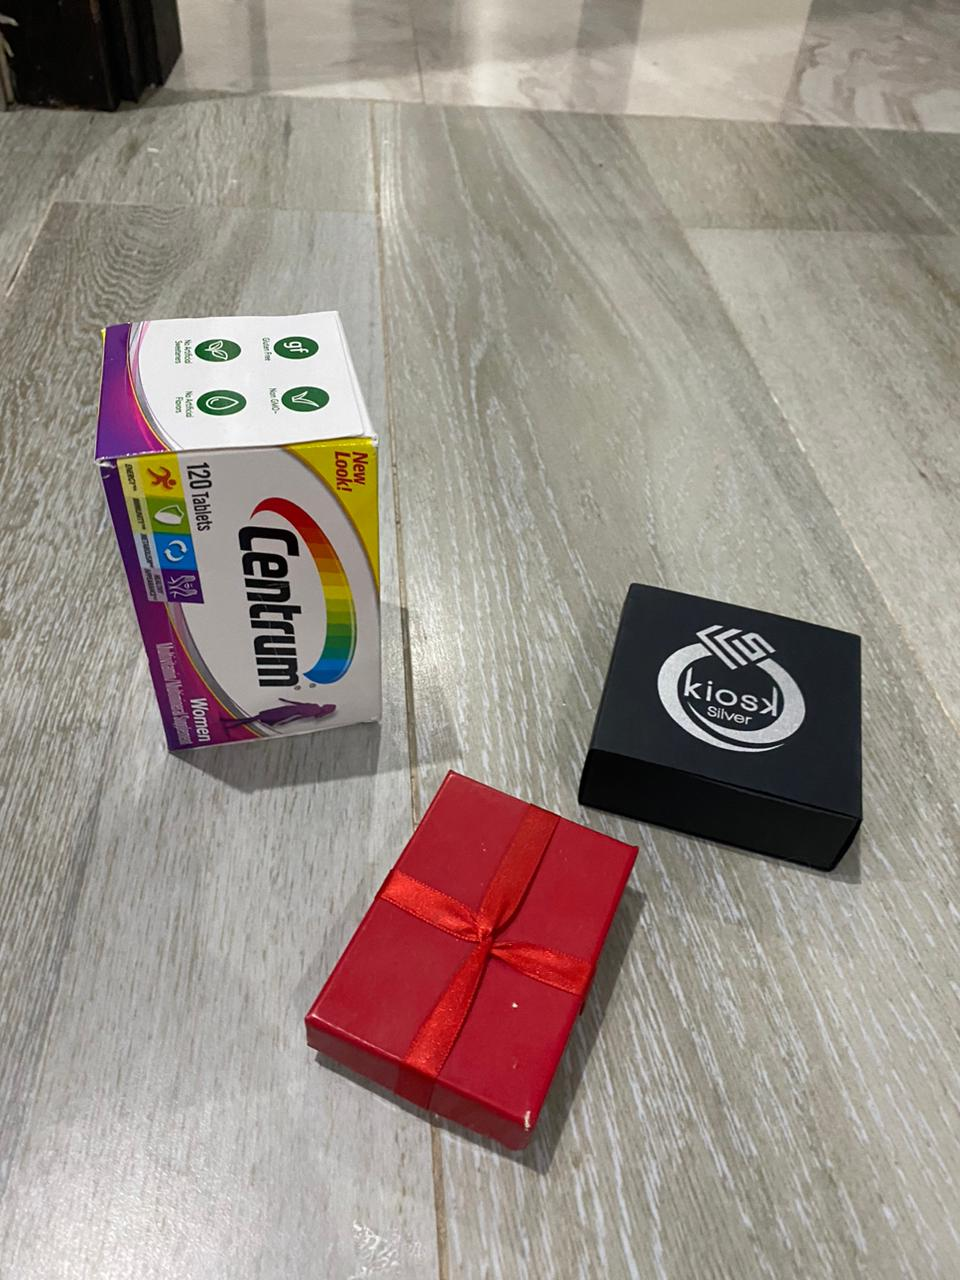Black Box: (308, 763, 647, 1163)
Centrum: (94, 309, 397, 752)
Red Box: (578, 581, 872, 881)
